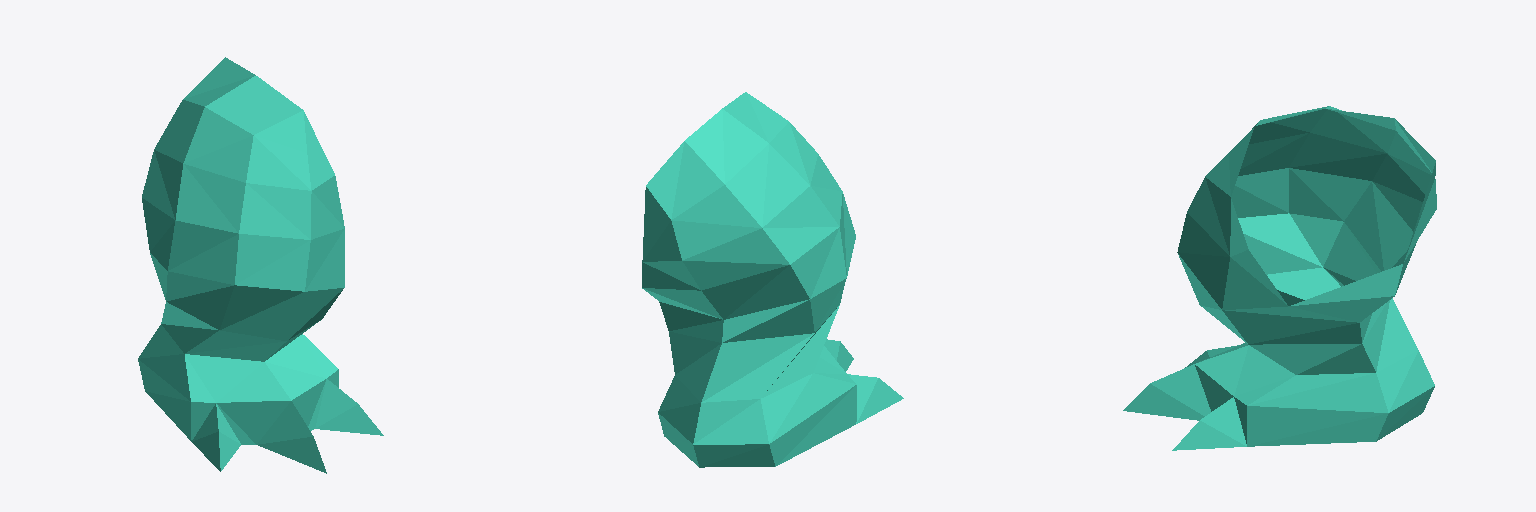
File: charizard_leg2.obj
3 views of the same model, side by side, from view 1: azimuth 30°, elevation 25°; view 2: azimuth 150°, elevation 25°; view 3: azimuth 270°, elevation 25° (orthographic).
Parts seen in each view (by area): view 1: legizq; view 2: legizq; view 3: legizq.
Boxes of the visible parts, x1,y1,x2,y2 form: legizq: [138, 57, 383, 473]; legizq: [642, 92, 903, 467]; legizq: [1123, 106, 1436, 450].
Size of the model in its own units: 14.14 by 24.96 by 22.47.